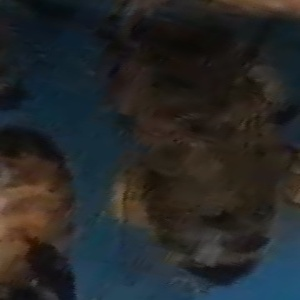bee: (102, 12, 300, 290)
